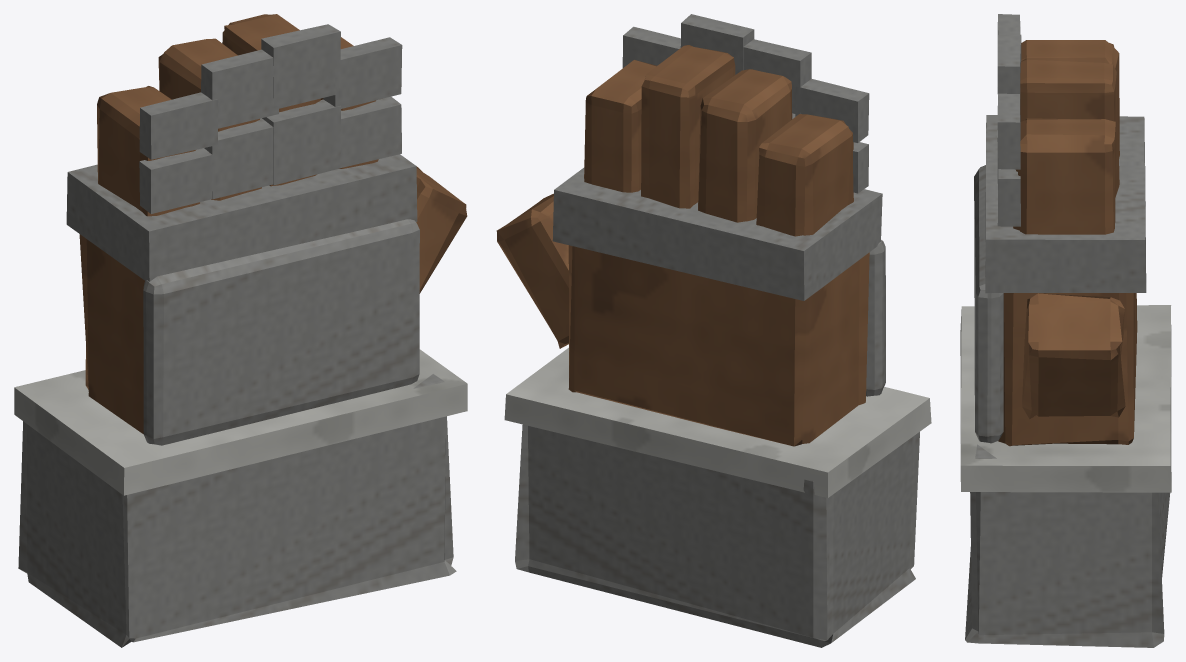
File: iron_gauntlets.glb
3 views of the same model, side by side, from view 1: azimuth 30°, elevation 25°; view 2: azimuth 150°, elevation 25°; view 3: azimuth 270°, elevation 25° (orthographic). The views are drawn at different scales.
Visible parts, largest first — view 1: IronGauntlets; view 2: IronGauntlets; view 3: IronGauntlets.
Boxes of the visible parts, <box> form: IronGauntlets: <box>14,14,467,647</box>; IronGauntlets: <box>496,14,931,647</box>; IronGauntlets: <box>960,14,1171,647</box>.
Size of the model in its own units: 0.4204 by 0.5867 by 0.2087.
Materials: 3 (3 with a texture image).
